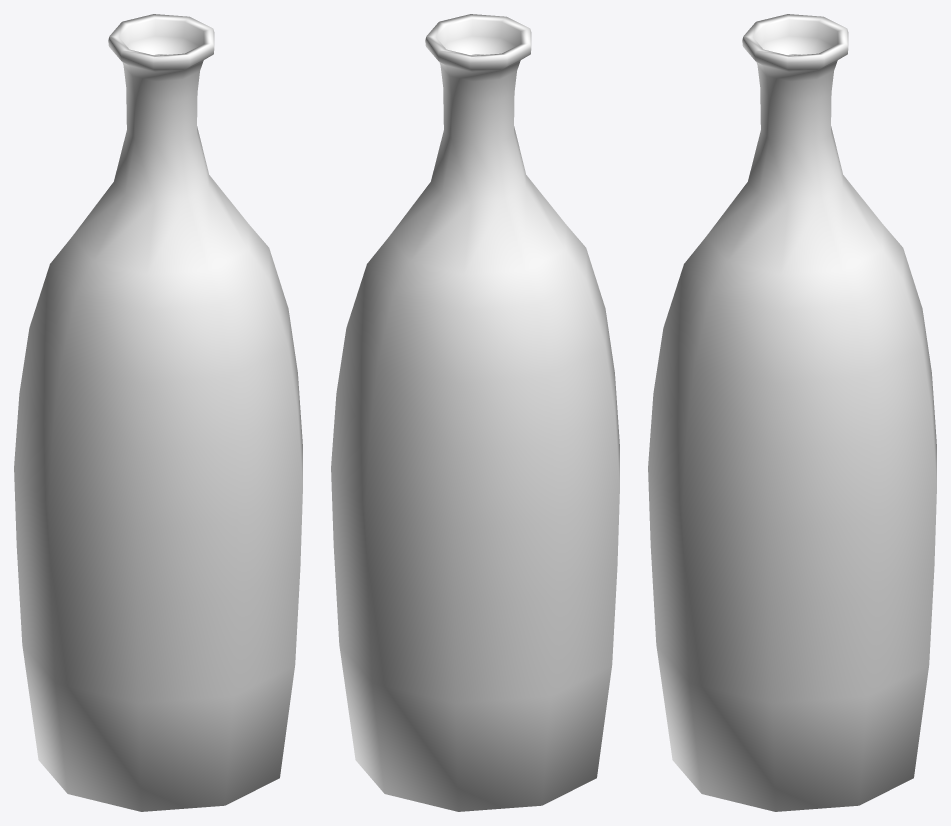
The model's file is Kitchen_MilkBottle.FBX.
The picture shows the model from 3 angles, left to right: view 1: azimuth 30°, elevation 25°; view 2: azimuth 150°, elevation 25°; view 3: azimuth 270°, elevation 25°; orthographic projection.
Parts seen in each view (by area): view 1: Kitchen_milk_bottle; view 2: Kitchen_milk_bottle; view 3: Kitchen_milk_bottle.
Part boxes in pixels (box(x1,y1,x2,y2)): Kitchen_milk_bottle: box(14, 14, 302, 811); Kitchen_milk_bottle: box(331, 14, 619, 811); Kitchen_milk_bottle: box(648, 14, 936, 811).
Size of the model in its own units: 0.1084 by 0.2972 by 0.1067.
